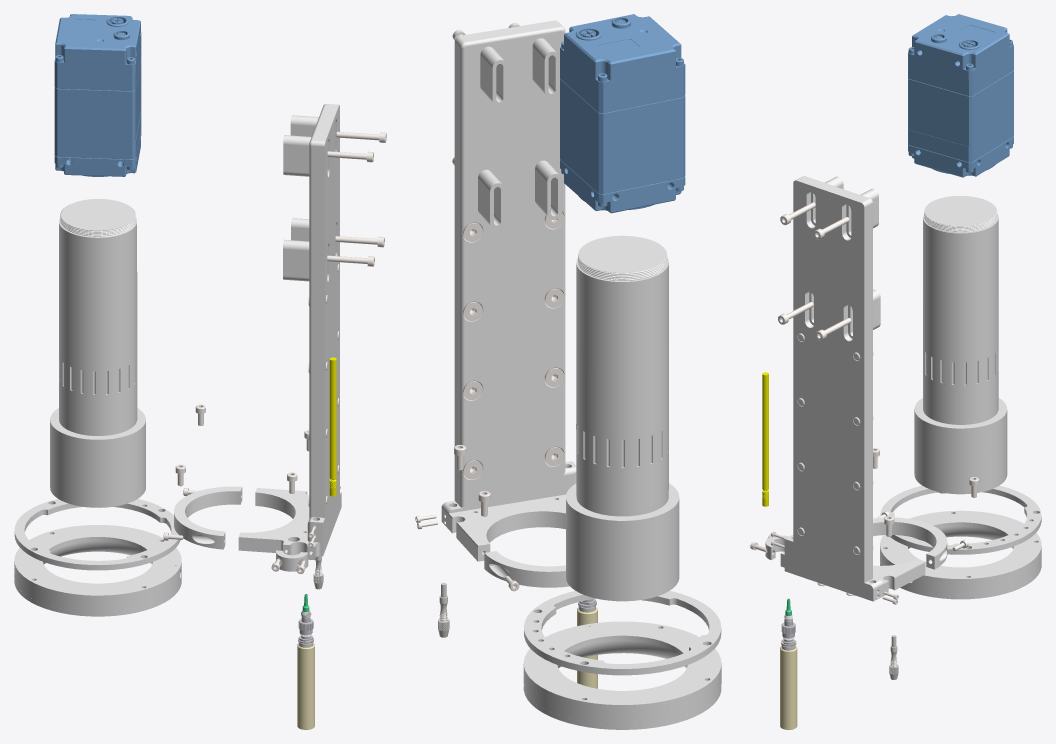
Rendered from VS3_Assembly_exploaded_Copy.glb.
The picture shows the model from 3 angles, left to right: view 1: azimuth 30°, elevation 25°; view 2: azimuth 150°, elevation 25°; view 3: azimuth 270°, elevation 25°; orthographic projection. The views are drawn at different scales.
Parts seen in each view (by area): view 1: Telecentric Lens-1, Part1^VS3 Assembly - Copy-1, Atlas10-TFL2-Mount-1, step_18562.step-1, Copy of Illumingation addapter disk^chip xy camera and lens-, Lense Bracket^VS3 Assembly - Copy-1, 7111199.001_IFS2404-2(001).stp-1/10.10213_Gehäuse.stp-1, 2864A213_One Piece Extension-1; view 2: Part1^VS3 Assembly - Copy-1, Telecentric Lens-1, Atlas10-TFL2-Mount-1, step_18562.step-1, Copy of Illumingation addapter disk^chip xy camera and lens-, Lense Bracket^VS3 Assembly - Copy-1, 7111199.001_IFS2404-2(001).stp-1/10.10213_Gehäuse.stp-1; view 3: Part1^VS3 Assembly - Copy-1, Telecentric Lens-1, Atlas10-TFL2-Mount-1, step_18562.step-1, Copy of Illumingation addapter disk^chip xy camera and lens-, Lense Bracket^VS3 Assembly - Copy-1, 7111199.001_IFS2404-2(001).stp-1/10.10213_Gehäuse.stp-1, 2864A213_One Piece Extension-1.
Boxes of the visible parts, x1,y1,x2,y2 form: Telecentric Lens-1: (50, 199, 145, 507); Part1^VS3 Assembly - Copy-1: (238, 104, 341, 560); Atlas10-TFL2-Mount-1: (54, 14, 141, 176); step_18562.step-1: (14, 525, 181, 616); Copy of Illumingation addapter disk^chip xy camera and lens-: (14, 499, 180, 570); Lense Bracket^VS3 Assembly - Copy-1: (174, 486, 242, 549); 7111199.001_IFS2404-2(001).stp-1/10.10213_Gehäuse.stp-1: (297, 643, 314, 729); 2864A213_One Piece Extension-1: (329, 357, 336, 496); Part1^VS3 Assembly - Copy-1: (441, 20, 576, 561); Telecentric Lens-1: (566, 235, 679, 601); Atlas10-TFL2-Mount-1: (560, 14, 685, 213); step_18562.step-1: (523, 621, 721, 729); Copy of Illumingation addapter disk^chip xy camera and lens-: (524, 591, 721, 675); Lense Bracket^VS3 Assembly - Copy-1: (484, 551, 569, 587); 7111199.001_IFS2404-2(001).stp-1/10.10213_Gehäuse.stp-1: (577, 607, 597, 688); Part1^VS3 Assembly - Copy-1: (780, 176, 925, 601); Telecentric Lens-1: (914, 195, 1007, 494); Atlas10-TFL2-Mount-1: (908, 14, 1013, 177); step_18562.step-1: (880, 510, 1041, 599); Copy of Illumingation addapter disk^chip xy camera and lens-: (880, 485, 1041, 554); Lense Bracket^VS3 Assembly - Copy-1: (873, 517, 947, 569); 7111199.001_IFS2404-2(001).stp-1/10.10213_Gehäuse.stp-1: (780, 646, 797, 729); 2864A213_One Piece Extension-1: (762, 372, 768, 506).
Size of the model in its own units: 0.2254 by 0.4943 by 0.2042.
